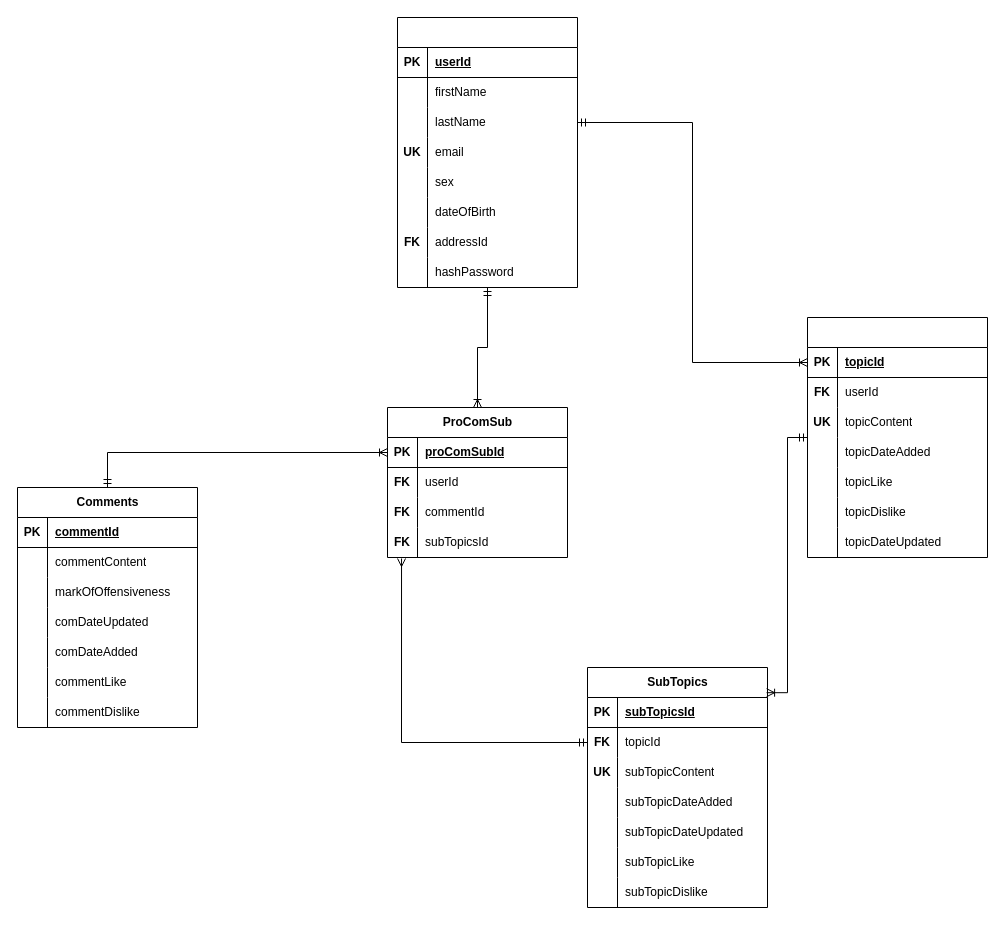
Image size: 1005x925. Some labels were removed from this diagram. The box of each missing label's shape, as (x1, y1, x2, y2) in pixels:
Profile: (396, 16, 578, 288)
Topics: (806, 316, 988, 558)
